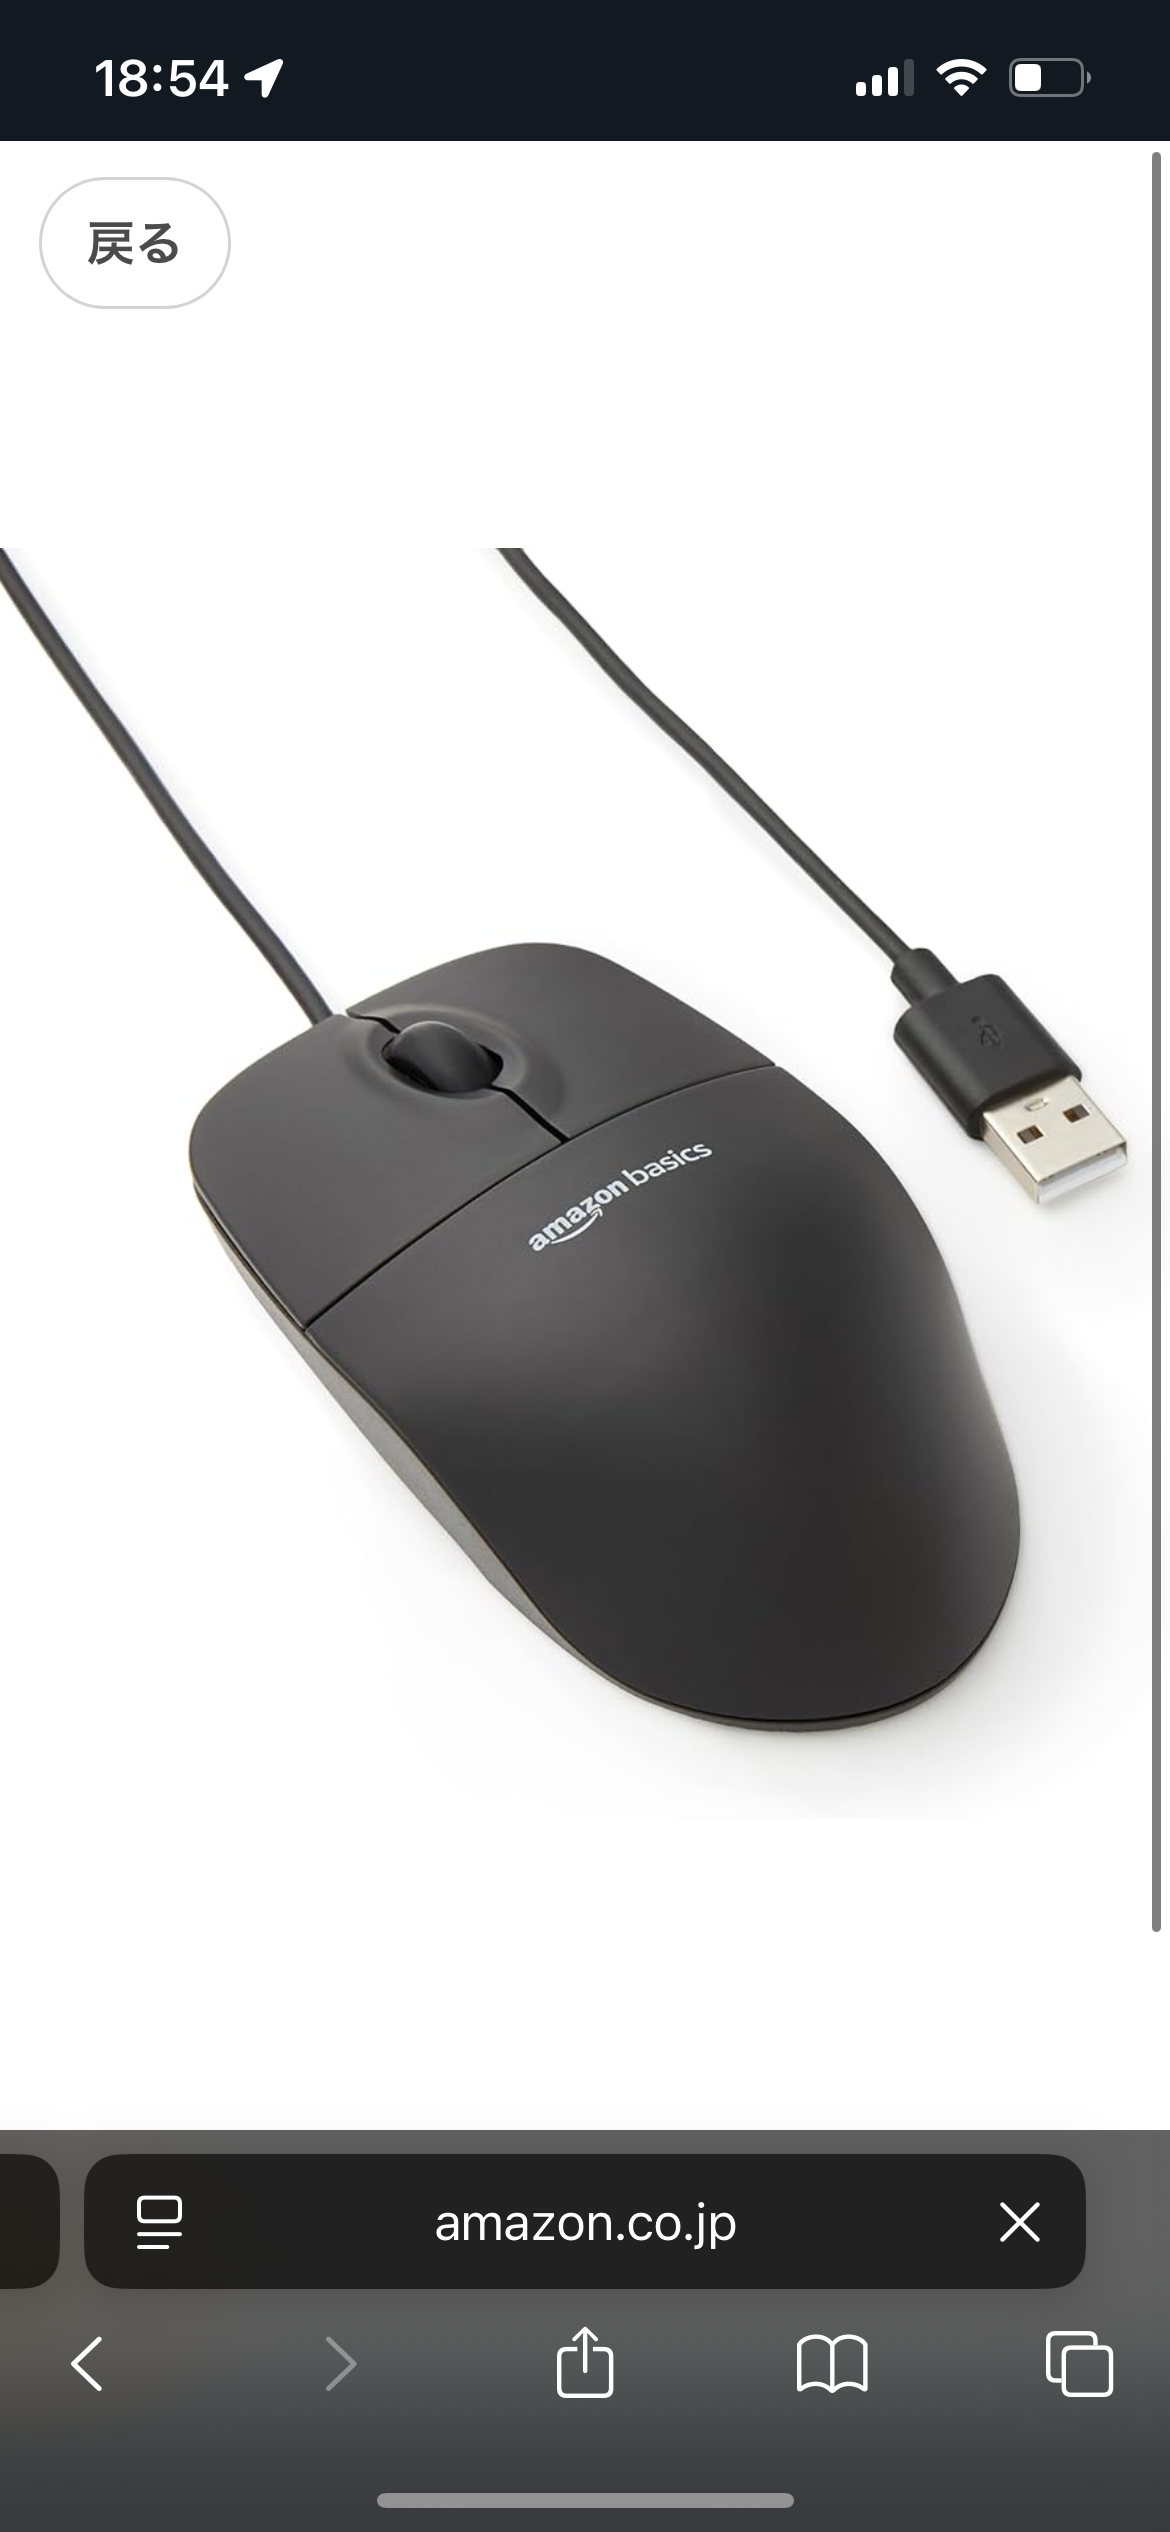mouse: (515, 945, 655, 1747)
